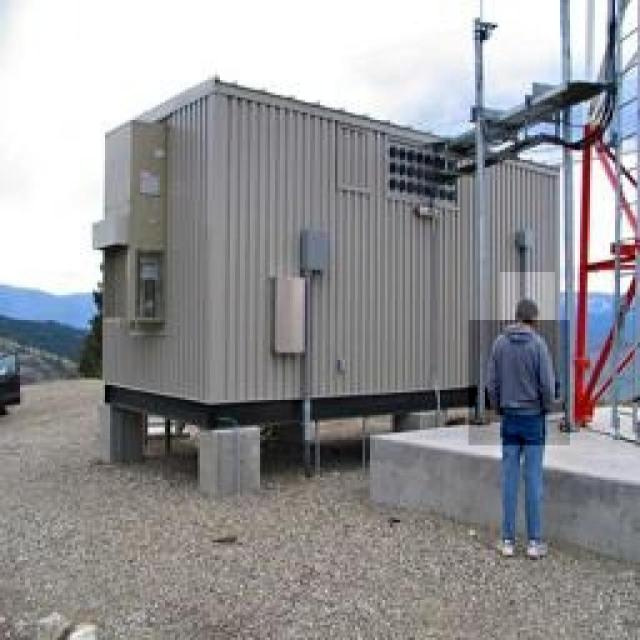Helmet: (468, 320, 570, 445), (500, 272, 555, 341)
